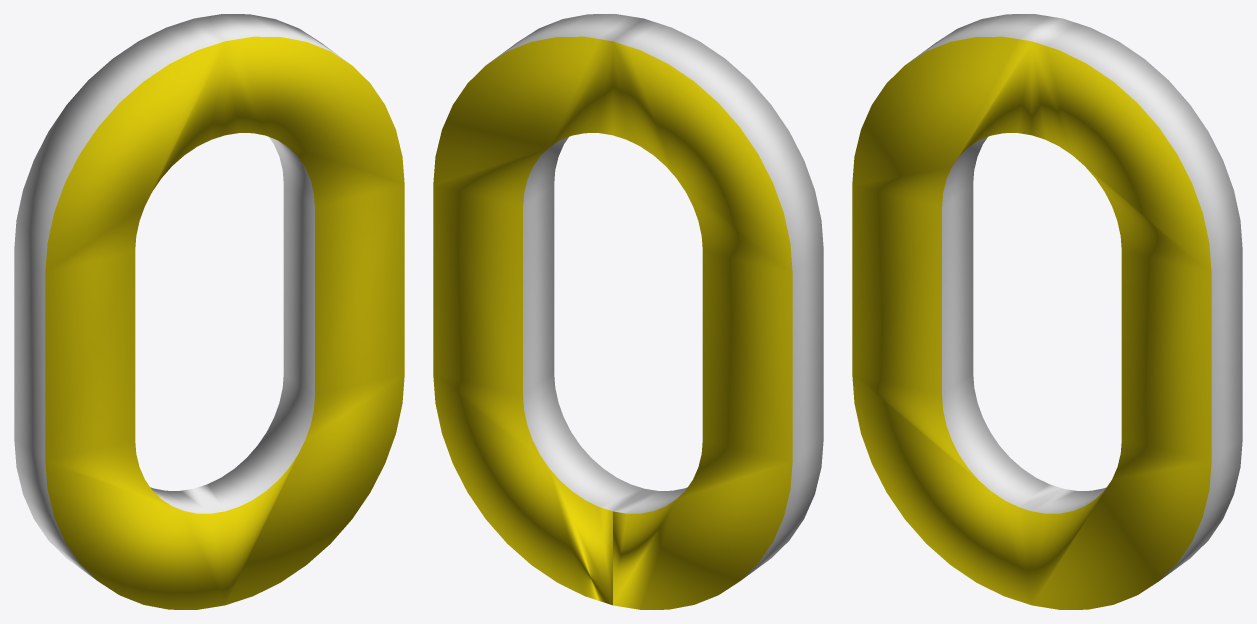
The model's file is RoadTest1.fbx.
3 renders of one model, left to right at view 1: azimuth 30°, elevation 25°; view 2: azimuth 150°, elevation 25°; view 3: azimuth 330°, elevation 25°, orthographic.
Parts seen in each view (by area): view 1: Putanja1.002; view 2: Putanja1.002; view 3: Putanja1.002.
Part boxes in pixels (x1,y1,x2,y2): Putanja1.002: [14, 14, 404, 609]; Putanja1.002: [433, 14, 823, 609]; Putanja1.002: [852, 14, 1242, 609].
Size of the model in its own units: 6001 by 8999 by 900.
